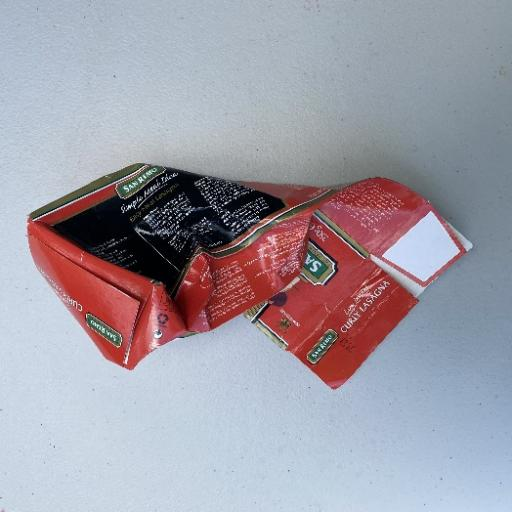Cardboard: (24, 160, 474, 390)
